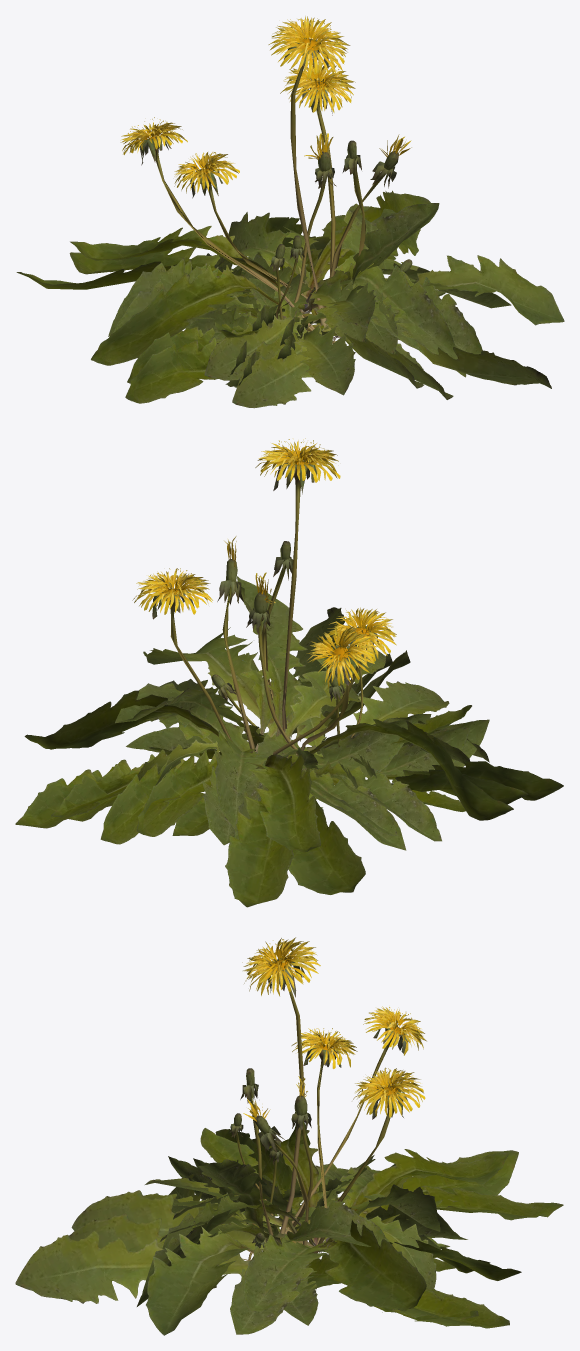
Rendered from dandelion.glb.
3 views of the same model, one above another, from view 1: azimuth 30°, elevation 25°; view 2: azimuth 150°, elevation 25°; view 3: azimuth 270°, elevation 25° (orthographic). The views are drawn at different scales.
Parts seen in each view (by area): view 1: dandelion_a, dandelion_e, dandelion_b, dandelion_c, dandelion_d; view 2: dandelion_a, dandelion_b, dandelion_e, dandelion_c, dandelion_d; view 3: dandelion_a, dandelion_e, dandelion_b, dandelion_c, dandelion_d.
Boxes of the visible parts, x1,y1,x2,y2 form: dandelion_a: [69, 16, 564, 408]; dandelion_e: [70, 190, 457, 388]; dandelion_b: [16, 63, 511, 399]; dandelion_c: [178, 133, 445, 395]; dandelion_d: [185, 244, 423, 386]; dandelion_a: [51, 438, 563, 907]; dandelion_b: [15, 536, 528, 894]; dandelion_e: [24, 650, 513, 852]; dandelion_c: [126, 572, 470, 839]; dandelion_d: [149, 672, 489, 808]; dandelion_a: [15, 937, 563, 1335]; dandelion_e: [71, 1123, 508, 1311]; dandelion_b: [69, 1028, 521, 1334]; dandelion_c: [143, 1076, 467, 1325]; dandelion_d: [157, 1128, 440, 1290].
Size of the model in its own units: 0.2204 by 0.1642 by 0.2577.
1 material, 1 textured.
